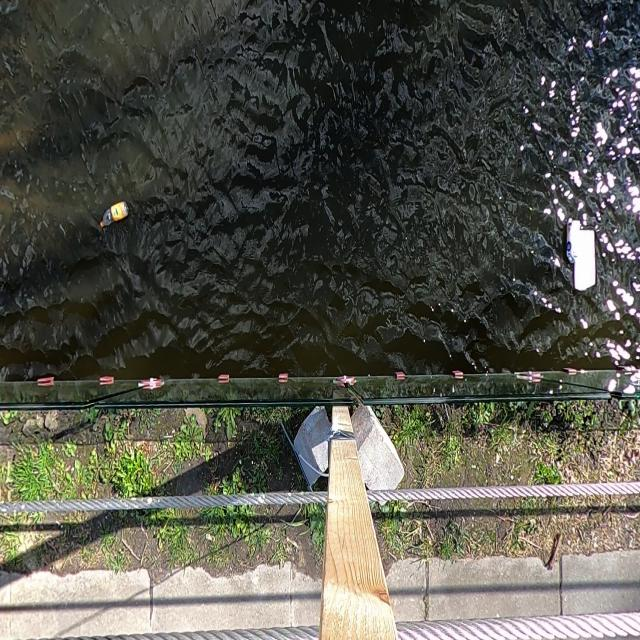Autre plastique: (576, 227, 601, 300)
Bouteille plastique: (96, 201, 130, 230)
Non plastique: (566, 214, 580, 267)
